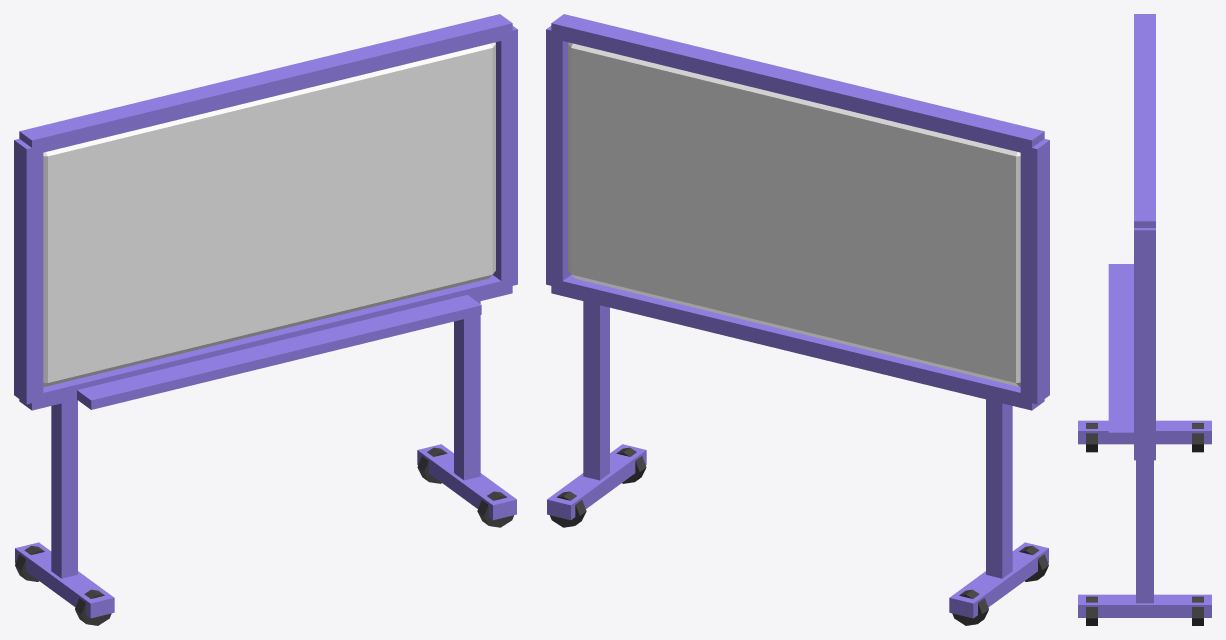
3 renders of one model, left to right at view 1: azimuth 30°, elevation 25°; view 2: azimuth 150°, elevation 25°; view 3: azimuth 270°, elevation 25°, orthographic. The views are drawn at different scales.
Visible parts, largest first — view 1: Writing surface, Frame rail.001, Marker ledge, Frame upright, Frame rail, Frame upright.001, Stand, Stand.001, Caster beam.001, Caster beam; view 2: Writing surface, Frame rail.001, Frame rail, Frame upright, Frame upright.001, Stand.001, Stand, Caster beam.001, Caster beam; view 3: Frame upright.001, Frame rail.001, Marker ledge, Caster beam.001, Stand.001, Caster beam, Wheel, Wheel.001, Wheel.002, Wheel.003.
Boxes of the visible parts, x1,y1,x2,y2 form: Writing surface: (43,42,495,386); Frame rail.001: (19,14,512,155); Marker ledge: (77,295,481,409); Frame upright: (14,139,43,404); Frame rail: (19,275,512,410); Frame upright.001: (492,26,517,288); Stand: (51,399,77,578); Stand.001: (454,301,480,480); Caster beam.001: (417,444,516,520); Caster beam: (15,542,114,618); Writing surface: (568,42,1020,386); Frame rail.001: (551,14,1044,152); Frame rail: (551,275,1044,410); Frame upright: (1020,139,1049,404); Frame upright.001: (546,26,571,285); Stand.001: (583,301,609,480); Stand: (986,399,1012,578); Caster beam.001: (547,444,646,520); Caster beam: (949,542,1048,618); Frame upright.001: (1134,228,1155,455); Frame rail.001: (1134,14,1155,227); Marker ledge: (1108,264,1133,440); Caster beam.001: (1078,594,1211,617); Stand.001: (1136,460,1153,603); Caster beam: (1078,420,1211,444); Wheel: (1086,423,1097,452); Wheel.001: (1192,423,1203,452); Wheel.002: (1086,596,1097,625); Wheel.003: (1192,596,1203,625).
Bounding box in the file's own units: 180 × 166 × 48.
